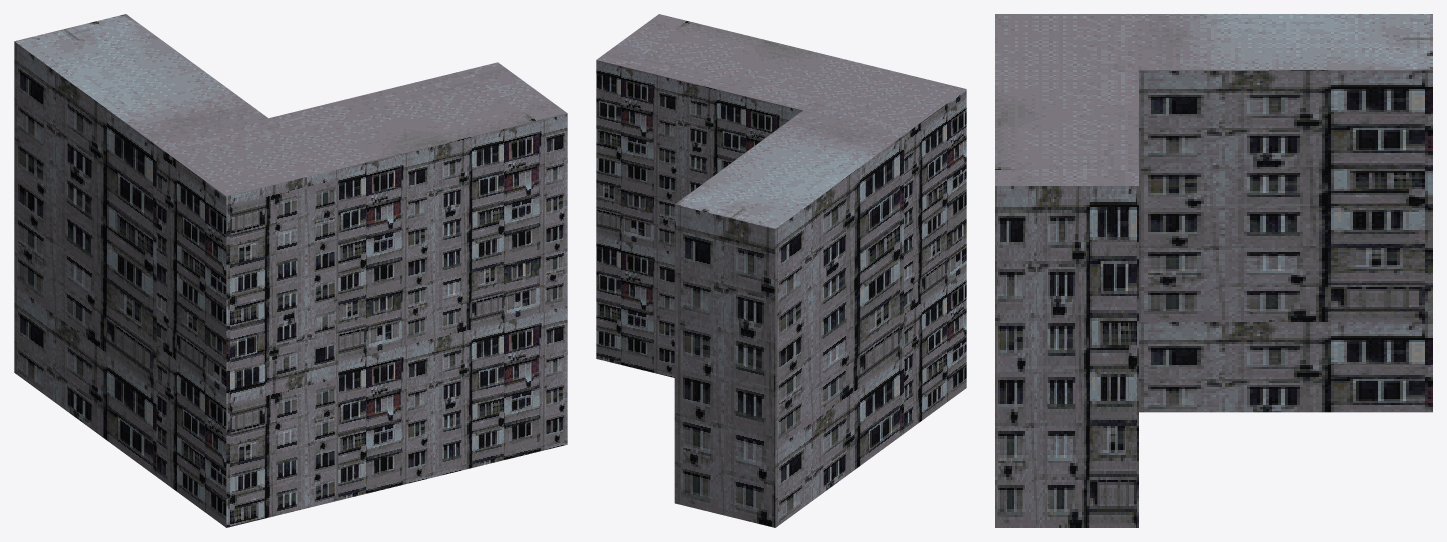
The model's file is psx_soviet_panel_building_khrushchyovka.glb.
3 views of the same model, side by side, from view 1: azimuth 30°, elevation 25°; view 2: azimuth 150°, elevation 25°; view 3: azimuth 270°, elevation 25° (orthographic). The views are drawn at different scales.
Visible parts, largest first — view 1: pCube11; view 2: pCube11; view 3: pCube11.
Part boxes in pixels (box(x1,y1,x2,y2)): pCube11: box(14, 14, 567, 527); pCube11: box(596, 14, 966, 527); pCube11: box(995, 14, 1432, 527).
Bounding box in the file's own units: 1.28 × 1.19 × 1.38.
Materials: 2 (2 with a texture image).
